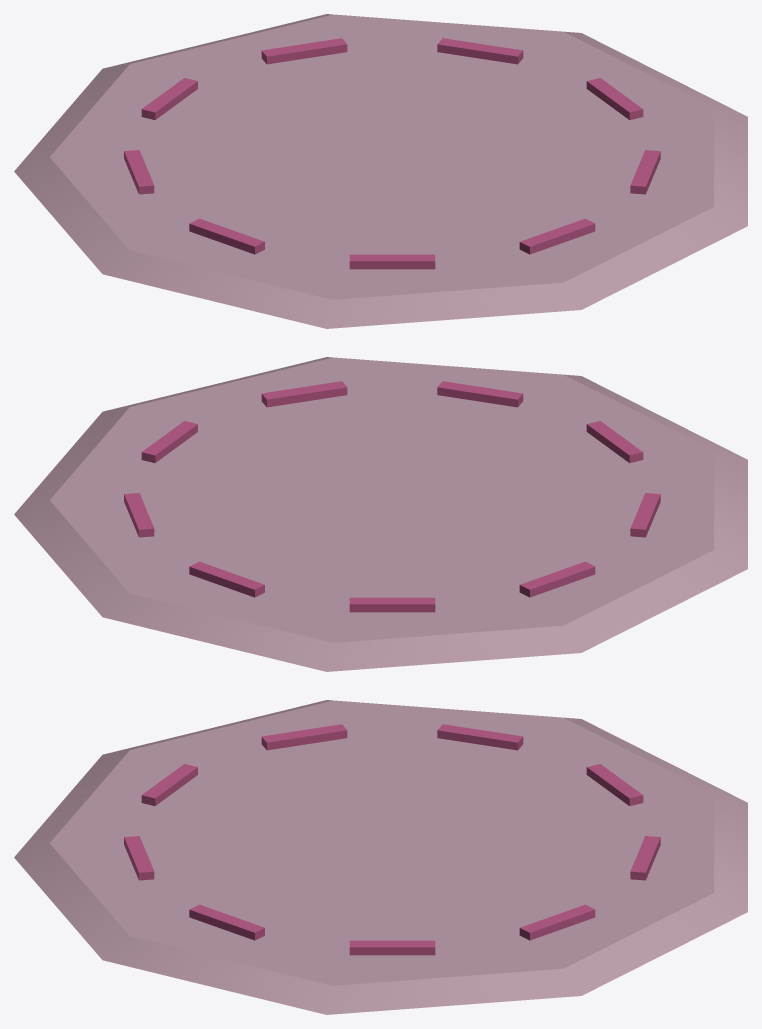
File: foundation.glb
3 views of the same model, one above another, from view 1: azimuth 30°, elevation 25°; view 2: azimuth 150°, elevation 25°; view 3: azimuth 270°, elevation 25° (orthographic).
Visible parts, largest first — view 1: foundation_inlay, foundation_rune_3, foundation_rune_7, foundation_rune_8, foundation_rune_2, foundation_rune_4, foundation_rune_0, foundation_rune_6, foundation_rune_1, foundation_rune_5; view 2: foundation_inlay, foundation_rune_6, foundation_rune_1, foundation_rune_2, foundation_rune_5, foundation_rune_7, foundation_rune_3, foundation_rune_0, foundation_rune_4, foundation_rune_8; view 3: foundation_inlay, foundation_rune_0, foundation_rune_4, foundation_rune_5, foundation_rune_8, foundation_rune_1, foundation_rune_6, foundation_rune_3, foundation_rune_7, foundation_rune_2.
Part boxes in pixels (x1=…): foundation_inlay: x1=14, y1=14, x2=747, y2=328; foundation_rune_3: x1=349, y1=254, x2=435, y2=269; foundation_rune_7: x1=261, y1=38, x2=347, y2=64; foundation_rune_8: x1=437, y1=38, x2=523, y2=64; foundation_rune_2: x1=519, y1=218, x2=595, y2=254; foundation_rune_4: x1=189, y1=218, x2=264, y2=254; foundation_rune_0: x1=586, y1=78, x2=643, y2=120; foundation_rune_6: x1=141, y1=78, x2=197, y2=119; foundation_rune_1: x1=630, y1=150, x2=660, y2=194; foundation_rune_5: x1=124, y1=150, x2=154, y2=194; foundation_inlay: x1=14, y1=357, x2=747, y2=671; foundation_rune_6: x1=349, y1=597, x2=435, y2=612; foundation_rune_1: x1=261, y1=381, x2=347, y2=407; foundation_rune_2: x1=437, y1=381, x2=523, y2=407; foundation_rune_5: x1=519, y1=561, x2=595, y2=597; foundation_rune_7: x1=189, y1=561, x2=264, y2=597; foundation_rune_3: x1=586, y1=421, x2=643, y2=463; foundation_rune_0: x1=141, y1=421, x2=197, y2=462; foundation_rune_4: x1=630, y1=493, x2=660, y2=537; foundation_rune_8: x1=124, y1=493, x2=154, y2=537; foundation_inlay: x1=14, y1=700, x2=747, y2=1014; foundation_rune_0: x1=349, y1=940, x2=435, y2=955; foundation_rune_4: x1=261, y1=724, x2=347, y2=750; foundation_rune_5: x1=437, y1=724, x2=523, y2=750; foundation_rune_8: x1=519, y1=904, x2=595, y2=940; foundation_rune_1: x1=189, y1=904, x2=264, y2=940; foundation_rune_6: x1=586, y1=764, x2=643, y2=806; foundation_rune_3: x1=141, y1=764, x2=197, y2=805; foundation_rune_7: x1=630, y1=836, x2=660, y2=880; foundation_rune_2: x1=124, y1=836, x2=154, y2=880.
Size of what is drawn, in the model's own units: 10.44 by 0.34 by 10.28.
